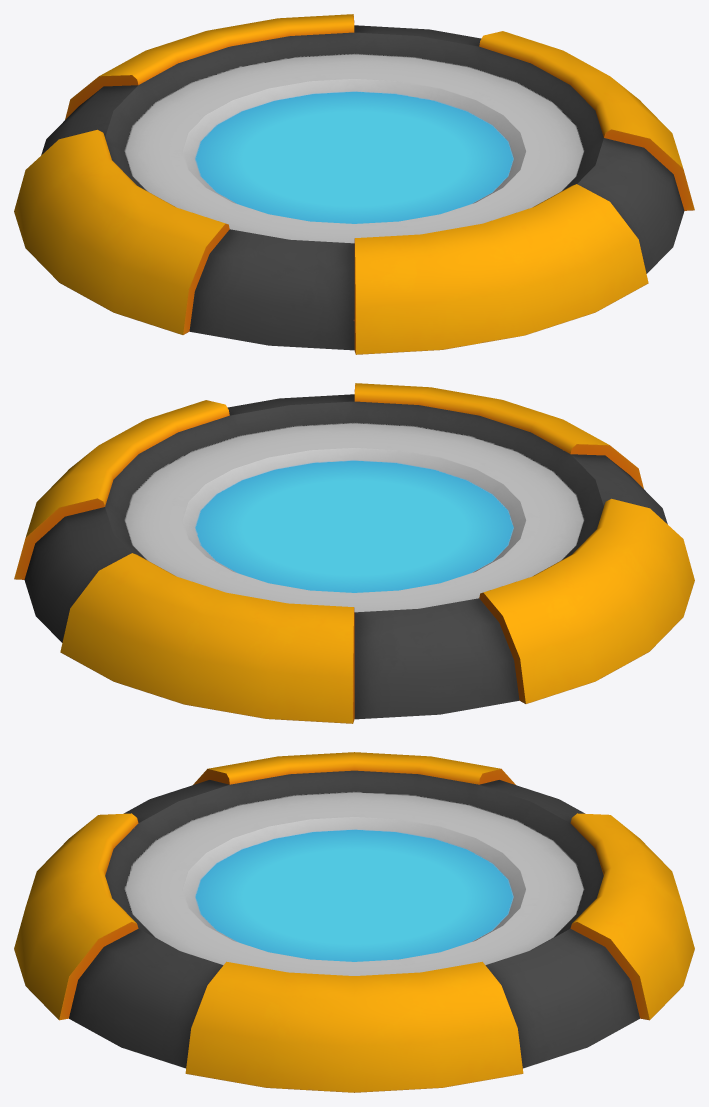
File: Teleport.FBX
3 views of the same model, one above another, from view 1: azimuth 30°, elevation 25°; view 2: azimuth 150°, elevation 25°; view 3: azimuth 270°, elevation 25° (orthographic).
Parts seen in each view (by area): view 1: Teleport; view 2: Teleport; view 3: Teleport.
Boxes of the visible parts, x1,y1,x2,y2 form: Teleport: [14, 14, 694, 354]; Teleport: [14, 383, 694, 723]; Teleport: [14, 752, 694, 1092].
Bounding box in the file's own units: 95.98 × 12.66 × 95.98.
